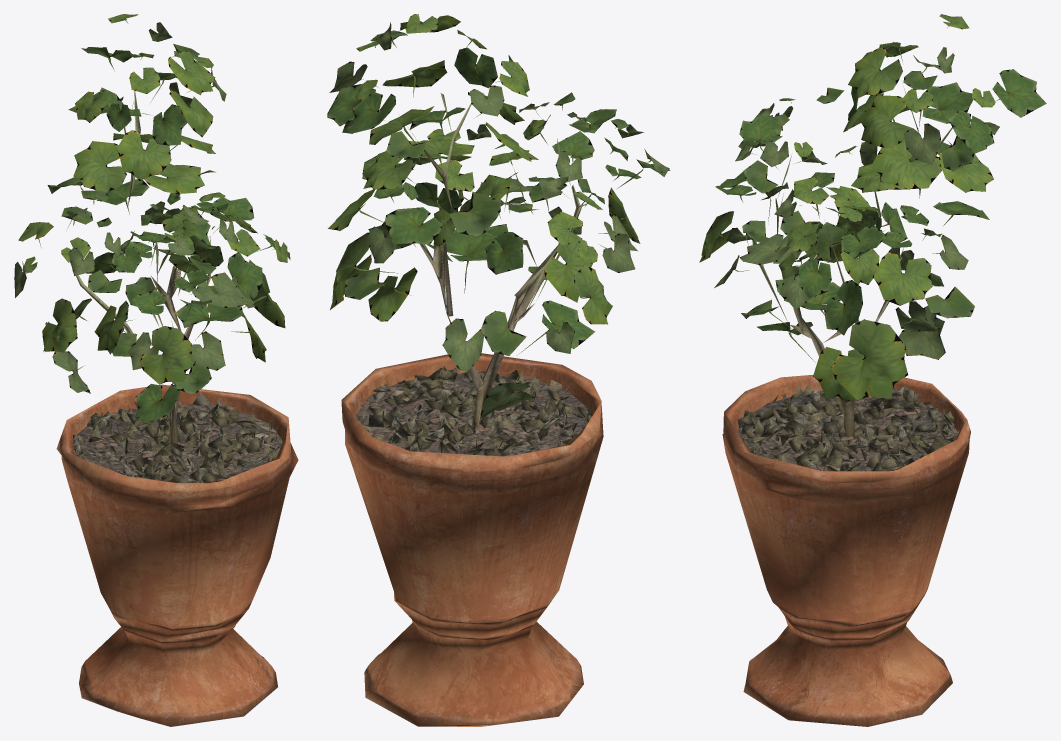
Rendered from tall-plant.glb.
3 renders of one model, left to right at view 1: azimuth 30°, elevation 25°; view 2: azimuth 150°, elevation 25°; view 3: azimuth 270°, elevation 25°, orthographic. The views are drawn at different scales.
Visible parts, largest first — view 1: potted_plant_01_stem, potted_plant_01_leaves; view 2: potted_plant_01_stem, potted_plant_01_leaves; view 3: potted_plant_01_stem, potted_plant_01_leaves.
Boxes of the visible parts, left/top/right/bottom form: potted_plant_01_stem: left=56, top=90, right=298, bottom=726; potted_plant_01_leaves: left=14, top=14, right=290, bottom=423; potted_plant_01_stem: left=341, top=89, right=603, bottom=726; potted_plant_01_leaves: left=327, top=14, right=670, bottom=417; potted_plant_01_stem: left=722, top=88, right=970, bottom=726; potted_plant_01_leaves: left=699, top=14, right=1046, bottom=401.
Bounding box in the file's own units: 0.5866 × 1.33 × 0.6336.
2 materials, 2 textured.
